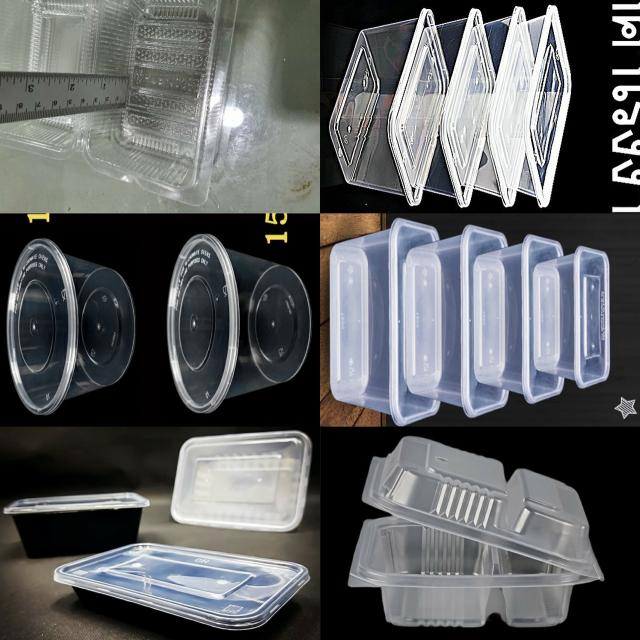Single-Use-Plastic: (348, 436, 603, 628), (0, 0, 238, 205), (439, 5, 570, 208), (168, 234, 311, 413), (388, 9, 509, 208), (329, 9, 448, 205), (403, 225, 522, 416), (6, 239, 135, 415), (330, 219, 439, 425), (54, 542, 309, 629), (473, 235, 564, 402), (171, 431, 311, 532), (533, 246, 609, 389), (4, 492, 150, 558)
